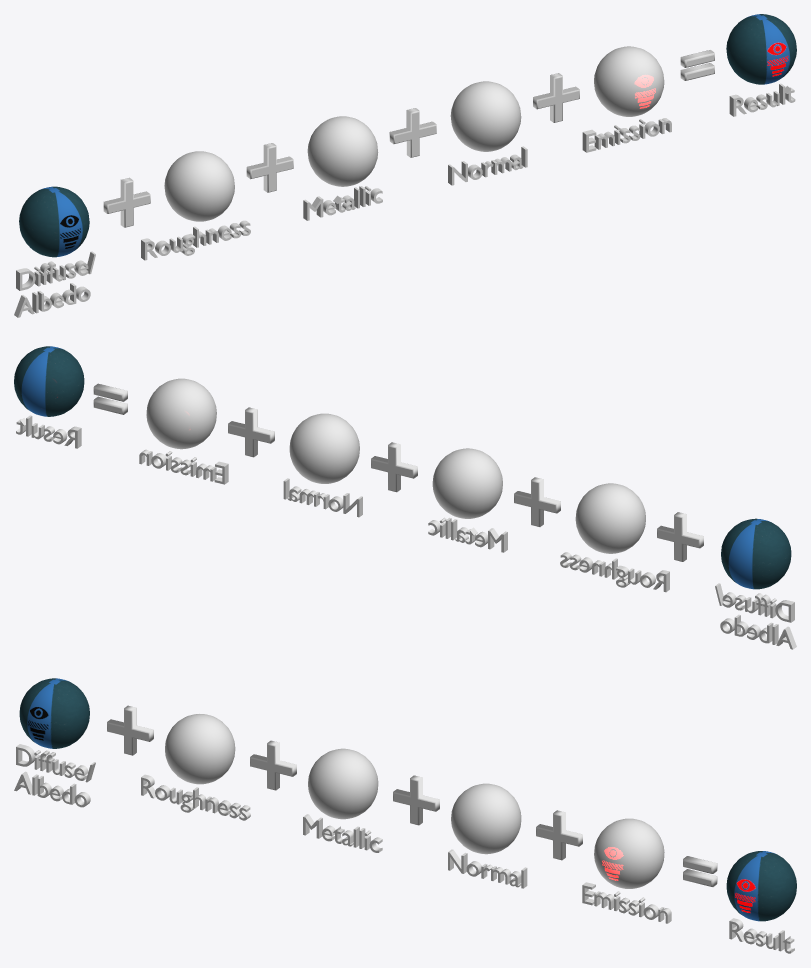
Rendered from Ref.fbx.
The picture shows the model from 3 angles, top to bottom: view 1: azimuth 30°, elevation 25°; view 2: azimuth 150°, elevation 25°; view 3: azimuth 330°, elevation 25°; orthographic projection.
Visible parts, largest first — view 1: Text.015, Text.010, Text.001, Text.004, Text.003, Text.002, Text.006, Text.005; view 2: Text.015, Text.010, Text.005, Text.004, Text.002, Text.006, Text.003, Text.001; view 3: Text.015, Text.010, Text.005, Text.004, Text.001, Text.003, Text.006, Text.002.
Part boxes in pixels (left/top/right/bottom): Text.015: left=14, top=83, right=795, bottom=317; Text.010: left=103, top=50, right=714, bottom=227; Text.001: left=19, top=186, right=89, bottom=257; Text.004: left=450, top=81, right=521, bottom=151; Text.003: left=307, top=116, right=378, bottom=186; Text.002: left=164, top=151, right=234, bottom=221; Text.006: left=726, top=14, right=796, bottom=84; Text.005: left=594, top=46, right=664, bottom=116; Text.015: left=16, top=415, right=796, bottom=649; Text.010: left=93, top=383, right=703, bottom=561; Text.005: left=146, top=378, right=216, bottom=449; Text.004: left=289, top=413, right=359, bottom=483; Text.002: left=575, top=483, right=645, bottom=553; Text.006: left=14, top=346, right=84, bottom=416; Text.003: left=432, top=448, right=502, bottom=518; Text.001: left=721, top=518, right=791, bottom=589; Text.015: left=14, top=744, right=794, bottom=953; Text.010: left=107, top=705, right=717, bottom=886; Text.005: left=594, top=818, right=664, bottom=888; Text.004: left=451, top=783, right=521, bottom=854; Text.001: left=19, top=678, right=89, bottom=748; Text.003: left=308, top=748, right=378, bottom=819; Text.006: left=726, top=851, right=796, bottom=921; Text.002: left=165, top=714, right=235, bottom=784.
Bounding box in the file's own units: 10496 × 1512 × 827.
8 materials, 2 textured.
